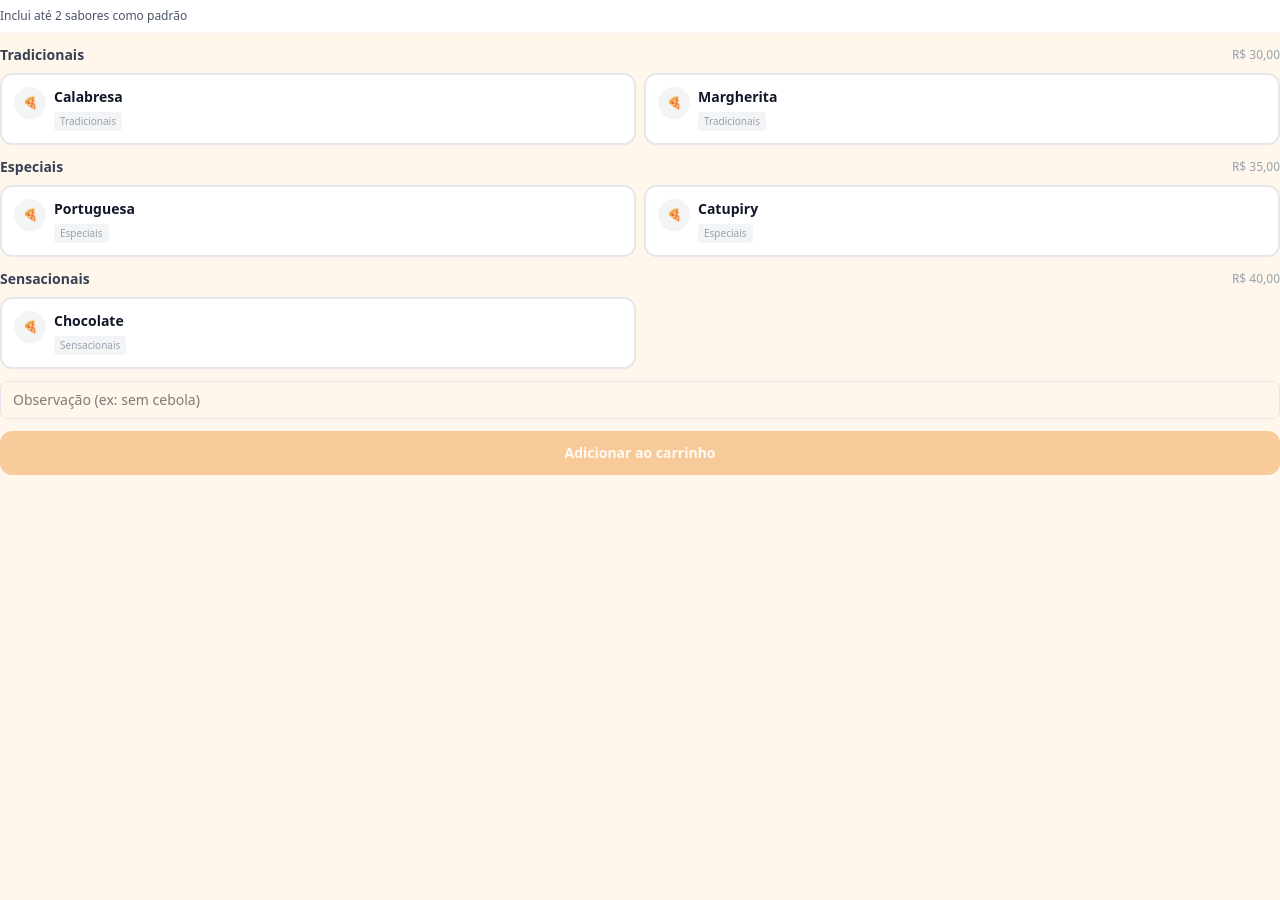
Test case: FlavorSelector — US1: confirmação explícita do 3º sabor (NAD-8) › "Adicionar" inclui o 3º sabor e o preço sobe R$ 5,00 (FR-005)
Click the button "🍕 Calabresa Tradicionais" at (30, 103), box [0,73,636,145]
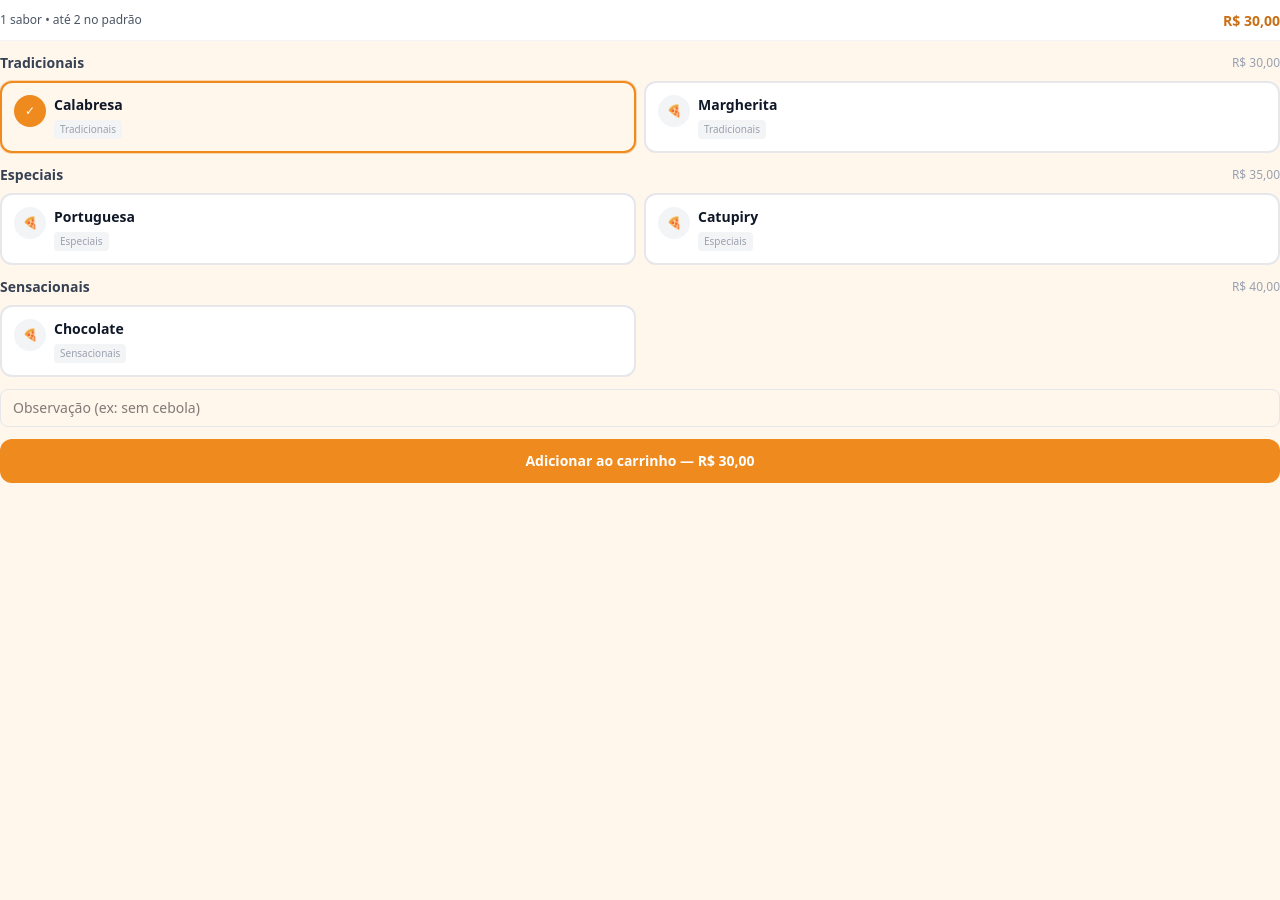
Click the button "🍕 Margherita Tradicionais" at (674, 111), box [644,81,1279,153]
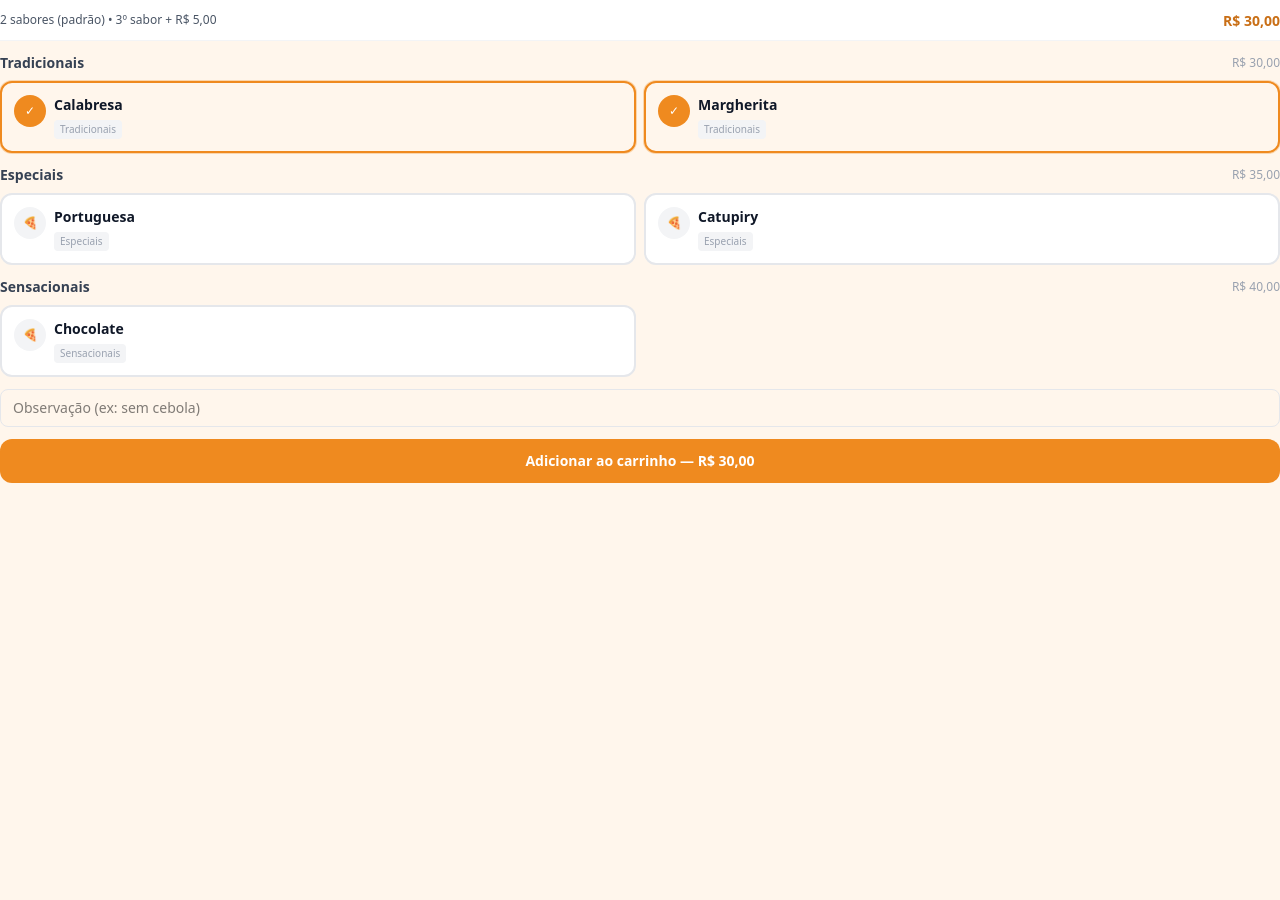
Click the button "🍕 Portuguesa Especiais" at (30, 223), box [0,193,636,265]
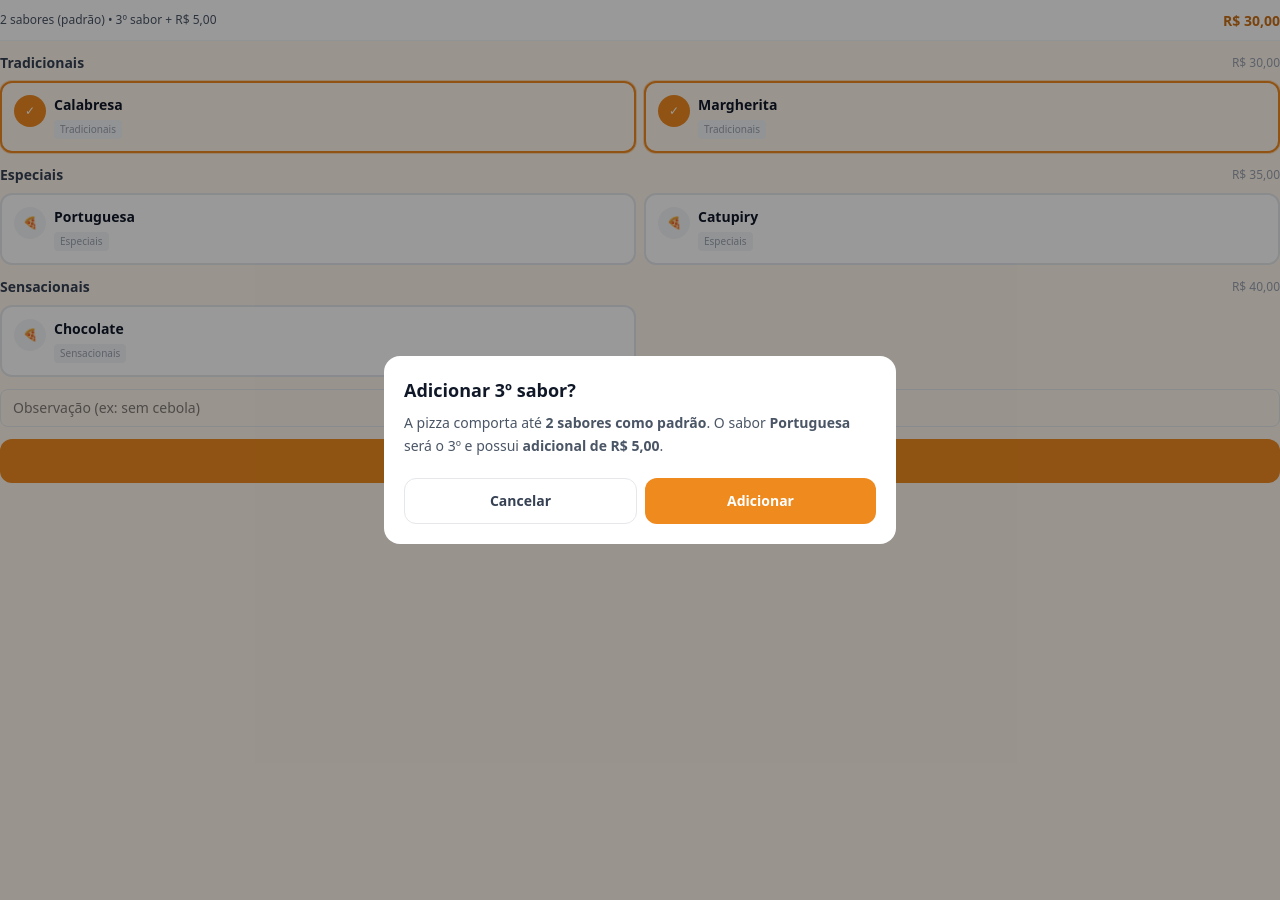
Click the button "Adicionar" at (760, 501), box [645,478,876,524]
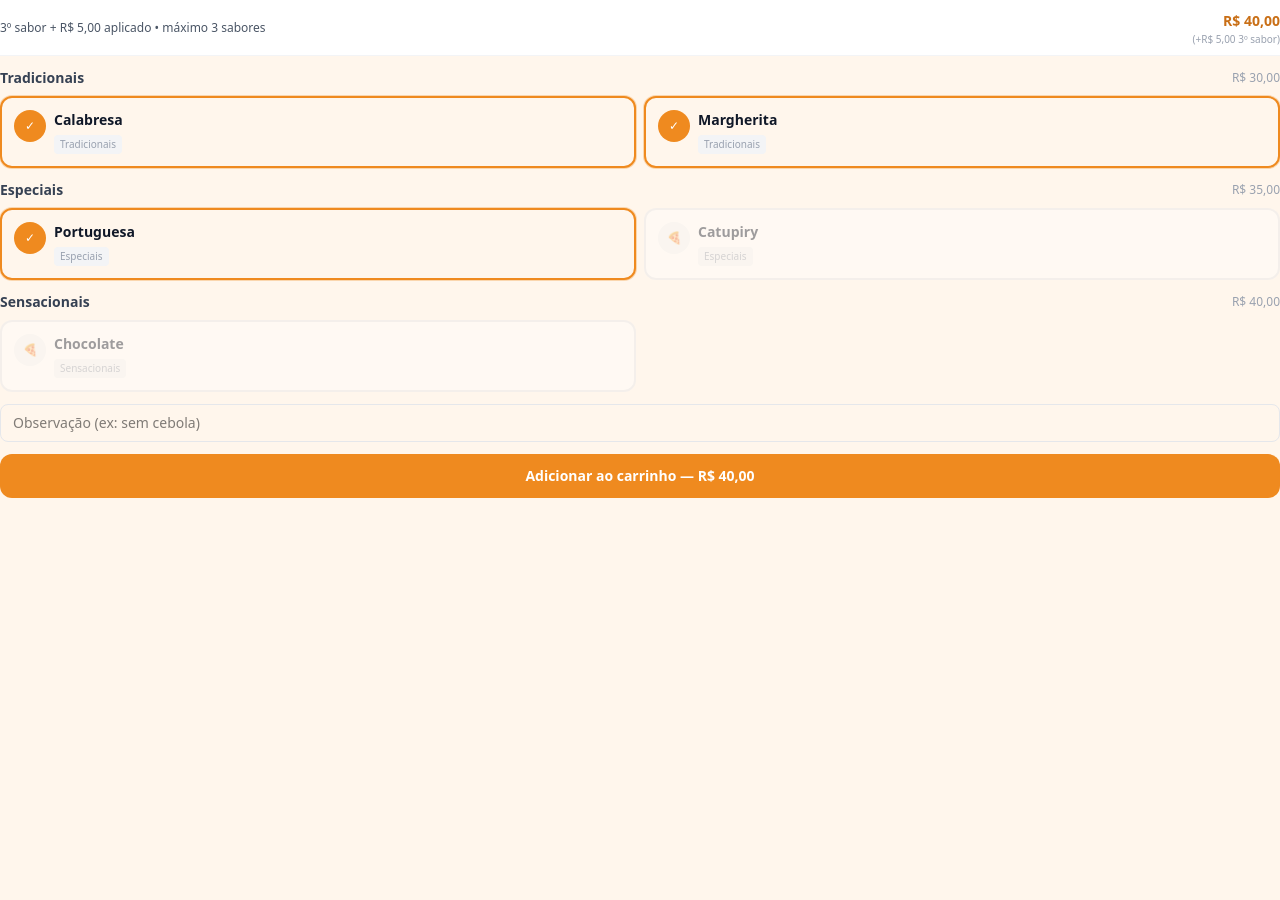
Check: the text "R$ 40,00" is shown, box [1223,11,1279,30]
Check: the dialog is gone
Check: the text "(+R$ 5,00 3º sabor)" is shown, box [1192,32,1279,47]
